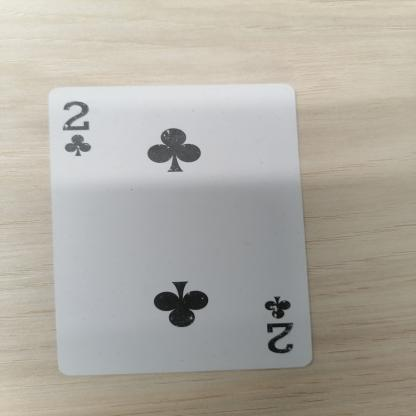2C: (54, 96, 106, 168), (251, 292, 306, 356)
